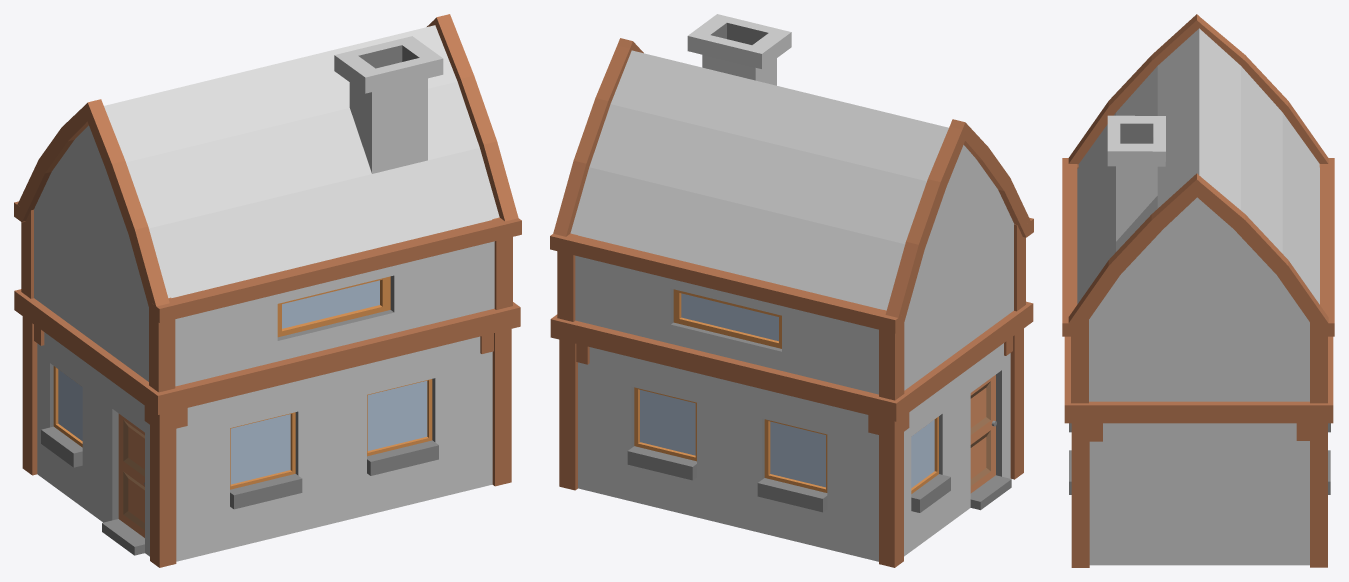
Rendered from Huis_AlexBlok1.fbx.
The picture shows the model from 3 angles, left to right: view 1: azimuth 30°, elevation 25°; view 2: azimuth 150°, elevation 25°; view 3: azimuth 270°, elevation 25°; orthographic projection. The views are drawn at different scales.
Parts seen in each view (by area): view 1: Cube, Cube.001, Pillar_Midden, Rand_Dak.001, Boei_Dak.001, Pillar_Onderkant, Boei_Dak.003, Raam.003, Raam.004, Pillar_Onderkant.002, Pillar_Onderkant.001, Raam.005 (+16 smaller); view 2: Cube, Cube.001, Pillar_Midden, Rand_Dak, Boei_Dak, Pillar_Onderkant.001, Boei_Dak.002, Pillar_Onderkant.003, Raam.002, Raam.001, Raam.006, Pillar_Onderkant (+15 smaller); view 3: Cube, Cube.001, Pillar_Midden, Boei_Dak.003, Boei_Dak.002, Pillar_Onderkant.002, Pillar_Onderkant.003, Rand_Dak.001, Rand_Dak, Boei_Dak.001, Boei_Dak, Pillar_Bovenkant.003 (+2 smaller).
Boxes of the visible parts, x1,y1,x2,y2 form: Cube: (34,25,499,386); Cube.001: (37,332,492,561); Pillar_Midden: (14,289,520,414); Rand_Dak.001: (151,218,521,322); Boei_Dak.001: (82,99,169,316); Pillar_Onderkant: (144,406,187,567); Boei_Dak.003: (431,14,518,221); Raam.003: (230,414,290,484); Raam.004: (367,381,427,450); Pillar_Onderkant.002: (480,329,511,486); Pillar_Onderkant.001: (22,316,44,475); Raam.005: (282,280,379,328); Cube: (570,14,1014,394); Cube.001: (578,343,1010,561); Pillar_Midden: (550,301,1033,421); Rand_Dak: (550,234,902,333); Boei_Dak: (885,126,964,326); Pillar_Onderkant.001: (868,412,909,567); Boei_Dak.002: (553,45,629,236); Pillar_Onderkant.003: (559,339,589,490); Raam.002: (640,390,695,455); Raam.001: (770,421,825,487); Raam.006: (681,293,778,341); Pillar_Onderkant: (1004,328,1023,479); Cube: (1077,28,1319,401); Cube.001: (1089,423,1309,565); Pillar_Midden: (1064,336,1333,423); Boei_Dak.003: (1068,173,1202,335); Boei_Dak.002: (1193,178,1328,335); Pillar_Onderkant.002: (1071,423,1102,567); Pillar_Onderkant.003: (1296,423,1327,567); Rand_Dak.001: (1062,158,1077,336); Rand_Dak: (1319,158,1334,336); Boei_Dak.001: (1068,14,1202,164); Boei_Dak: (1199,19,1328,163); Pillar_Bovenkant.003: (1071,320,1088,403).
Bounding box in the file's own units: 638 × 707 × 442.
